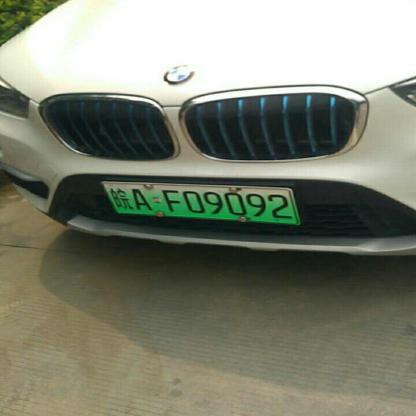lp: (101, 183, 298, 224)
